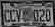0: (45, 9, 51, 22), (33, 9, 39, 21)
2: (39, 8, 45, 22)
C: (3, 8, 10, 23), (10, 8, 16, 22)
V: (16, 9, 21, 21)
